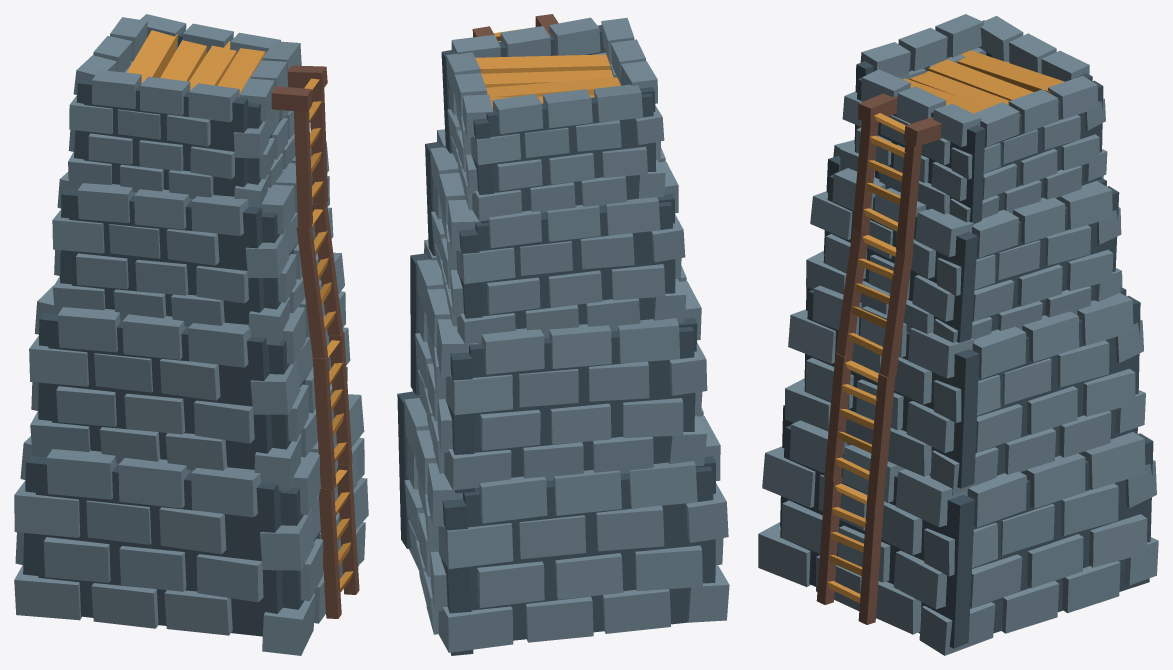
File: scene_nTSQGAkgeg.glb
3 renders of one model, left to right at view 1: azimuth 30°, elevation 25°; view 2: azimuth 150°, elevation 25°; view 3: azimuth 270°, elevation 25°, orthographic. The views are drawn at different scales.
Visible parts, largest first — view 1: group436603012, group780052468, group1002783362, group1938482674, group1415598723, group1189527105, group887147905, group912481852, group868045202, group922832150, group909129153, group614351822 (+2 smaller); view 2: group436603012, group780052468, group1938482674, group1002783362, group614351822, group922832150, group909129153; view 3: group436603012, group780052468, group1002783362, group1938482674, group1189527105, group887147905, group1415598723, group912481852, group868045202, group909129153, group922832150, group2056822305 (+2 smaller).
Part boxes in pixels (bbox=[...]): group436603012: bbox=[14, 394, 368, 655]; group780052468: bbox=[29, 252, 350, 491]; group1002783362: bbox=[52, 142, 333, 345]; group1938482674: bbox=[68, 14, 301, 207]; group1415598723: bbox=[319, 463, 359, 618]; group1189527105: bbox=[296, 203, 342, 358]; group887147905: bbox=[312, 331, 352, 489]; group912481852: bbox=[294, 78, 328, 227]; group868045202: bbox=[127, 30, 177, 83]; group922832150: bbox=[189, 41, 236, 89]; group909129153: bbox=[160, 40, 206, 81]; group614351822: bbox=[217, 48, 265, 96]; group436603012: bbox=[397, 390, 729, 655]; group780052468: bbox=[410, 239, 707, 493]; group1938482674: bbox=[441, 17, 665, 223]; group1002783362: bbox=[425, 129, 686, 348]; group614351822: bbox=[475, 54, 610, 73]; group922832150: bbox=[481, 69, 613, 87]; group909129153: bbox=[486, 77, 620, 97]; group436603012: bbox=[758, 405, 1158, 655]; group780052468: bbox=[785, 274, 1145, 495]; group1002783362: bbox=[806, 140, 1121, 342]; group1938482674: bbox=[840, 14, 1107, 223]; group1189527105: bbox=[835, 228, 913, 377]; group887147905: bbox=[824, 353, 895, 501]; group1415598723: bbox=[816, 477, 883, 624]; group912481852: bbox=[852, 113, 922, 253]; group868045202: bbox=[957, 50, 1064, 94]; group909129153: bbox=[928, 59, 1033, 100]; group922832150: bbox=[910, 71, 1009, 107]; group2056822305: bbox=[903, 117, 942, 146].
Bounding box in the file's own units: 0.4429 × 0.6706 × 0.4682.
